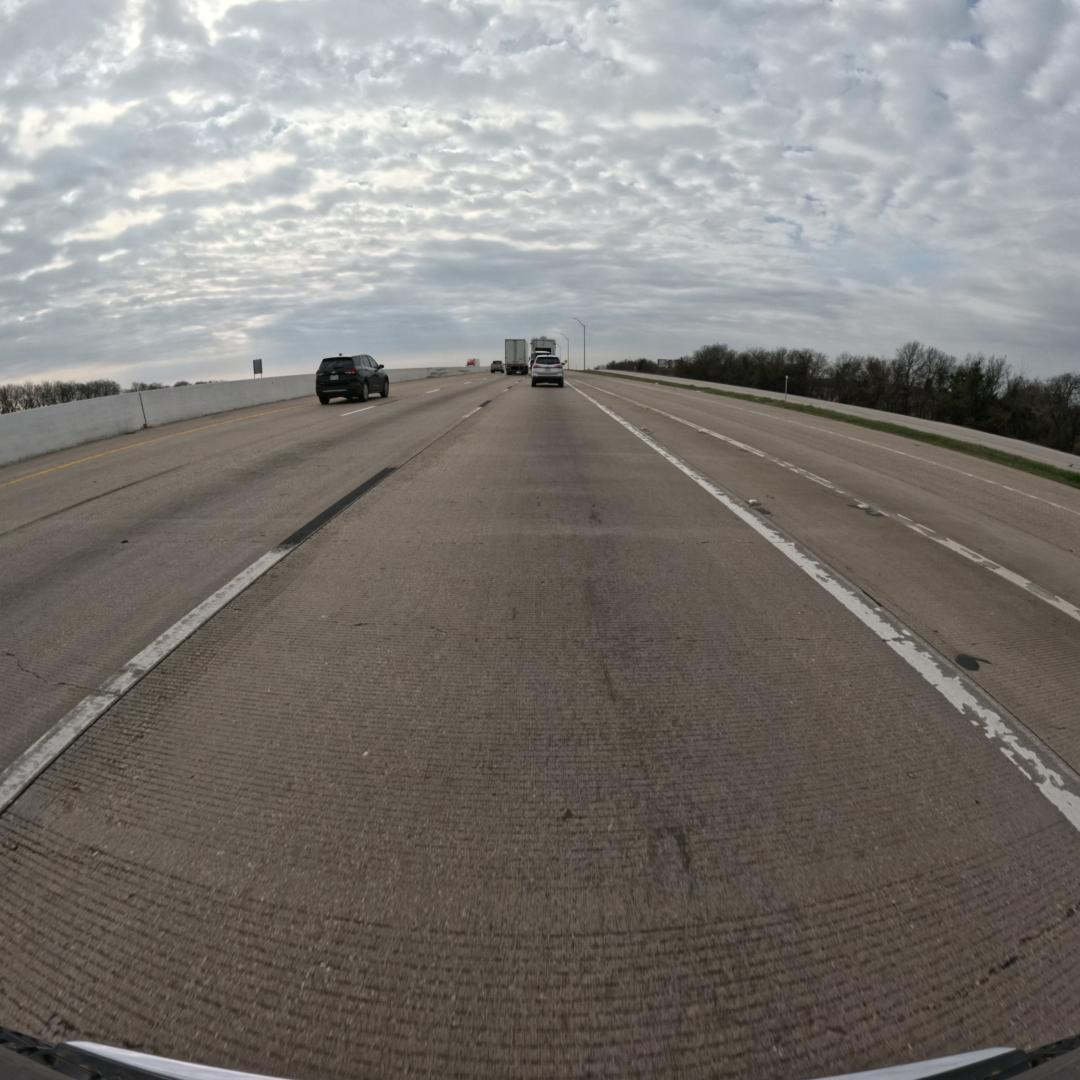lane0: (0, 382, 1080, 1076)
lane1: (0, 378, 507, 811)
